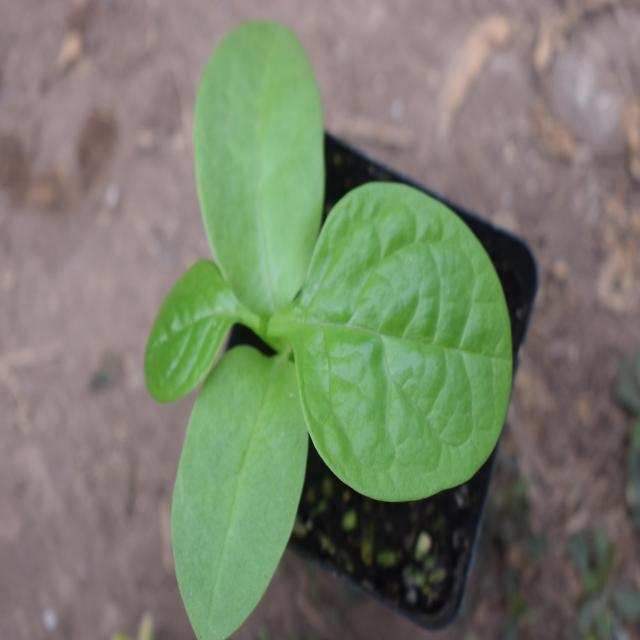Ceylon spinach: (177, 37, 509, 621)
